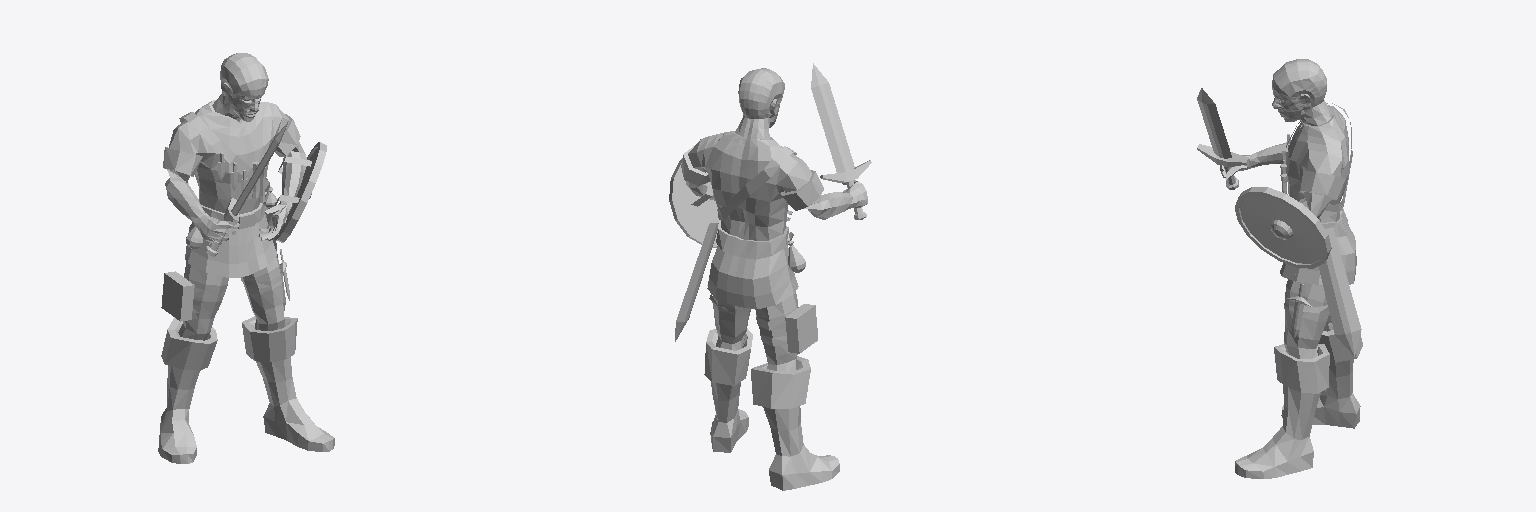
File: char_anim_000169.obj
3 renders of one model, left to right at view 1: azimuth 30°, elevation 25°; view 2: azimuth 150°, elevation 25°; view 3: azimuth 270°, elevation 25°, orthographic.
Visible parts, largest first — view 1: Body.001, Funda.001_LegBag, Shield, Sword, Bandolera; view 2: Body.001, Sword, Shield, Funda.001_LegBag, Sheat, Bandolera; view 3: Body.001, Shield, Sheat, Sword, LegKnife.
Part boxes in pixels (left/top/right/bottom): Body.001: left=158, top=53, right=334, bottom=463; Funda.001_LegBag: left=161, top=271, right=227, bottom=321; Shield: left=274, top=142, right=326, bottom=242; Sword: left=204, top=121, right=288, bottom=256; Bandolera: left=179, top=112, right=269, bottom=192; Body.001: left=681, top=68, right=867, bottom=490; Sword: left=811, top=63, right=871, bottom=219; Shield: left=669, top=159, right=718, bottom=247; Funda.001_LegBag: left=756, top=304, right=817, bottom=353; Sheat: left=675, top=220, right=718, bottom=341; Bandolera: left=717, top=146, right=796, bottom=220; Body.001: left=1220, top=59, right=1362, bottom=478; Shield: left=1235, top=187, right=1331, bottom=268; Sheat: left=1319, top=227, right=1361, bottom=356; Sword: left=1197, top=88, right=1249, bottom=189; LegKnife: left=1285, top=284, right=1328, bottom=337.
Bounding box in the file's own units: 0.9757 × 2.26 × 0.8805.